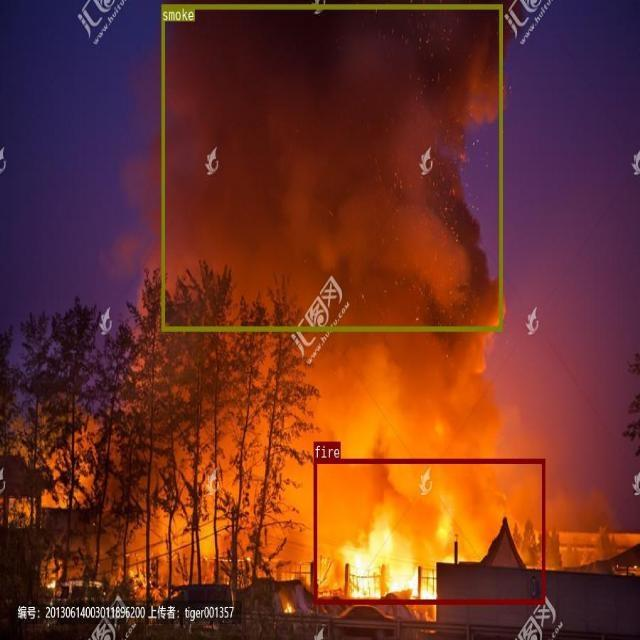fire: (314, 458, 545, 603)
smoke: (161, 4, 502, 330)
